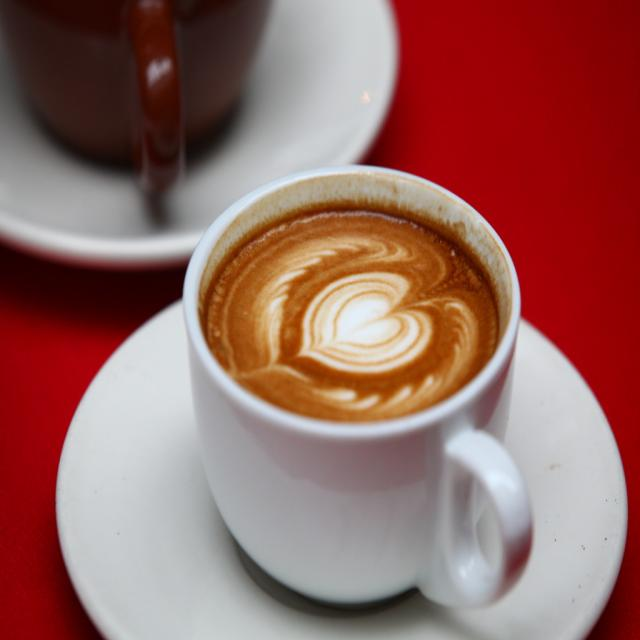Coffee: (195, 181, 516, 424)
